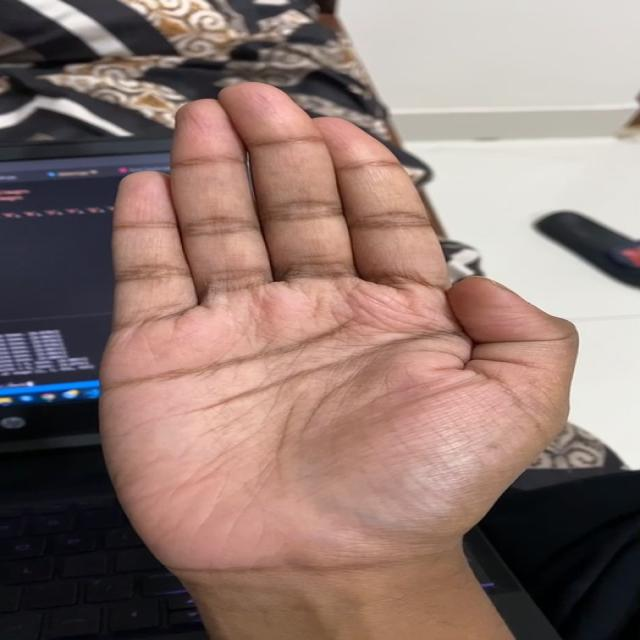no-gloves: (49, 68, 606, 586)
